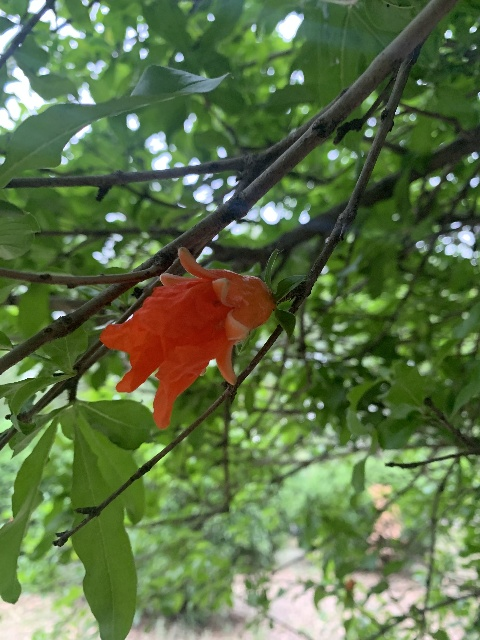flower: (99, 246, 275, 429)
